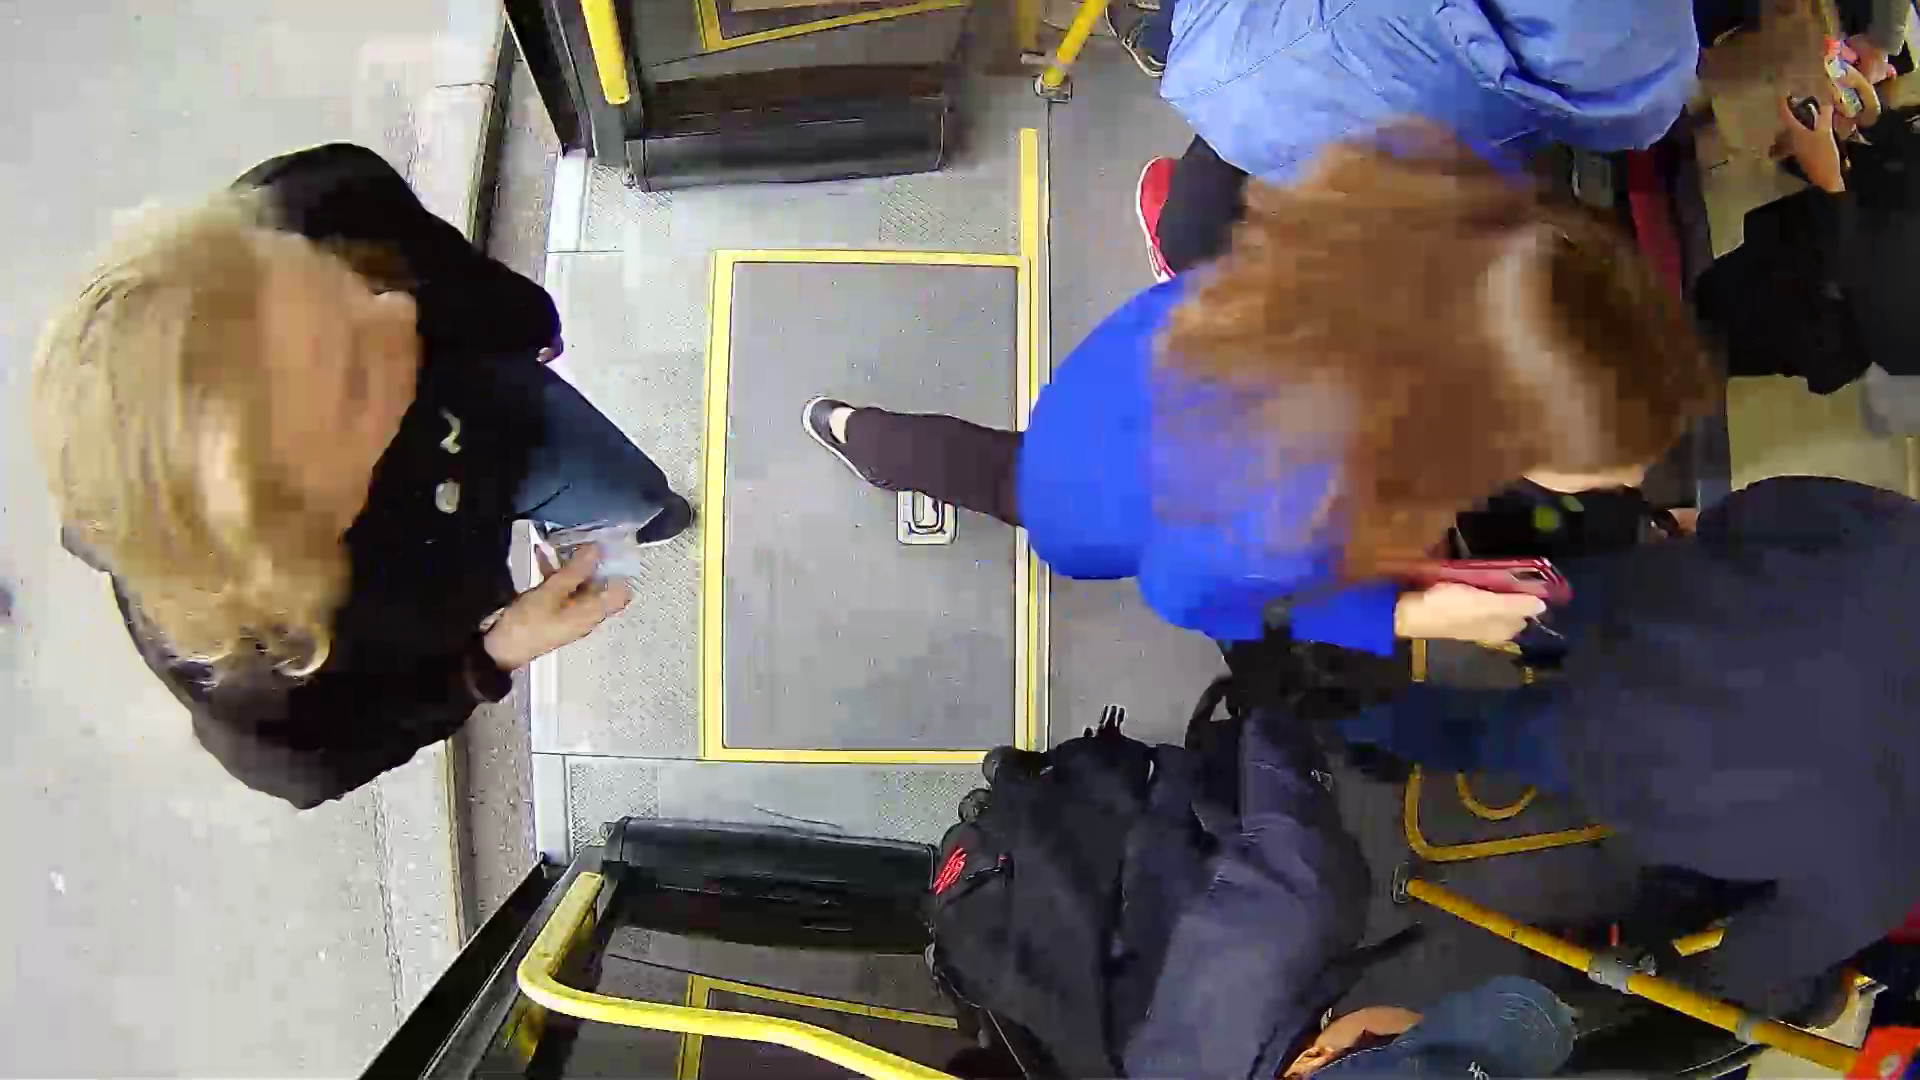person: (38, 187, 748, 779), (939, 185, 1737, 681)
